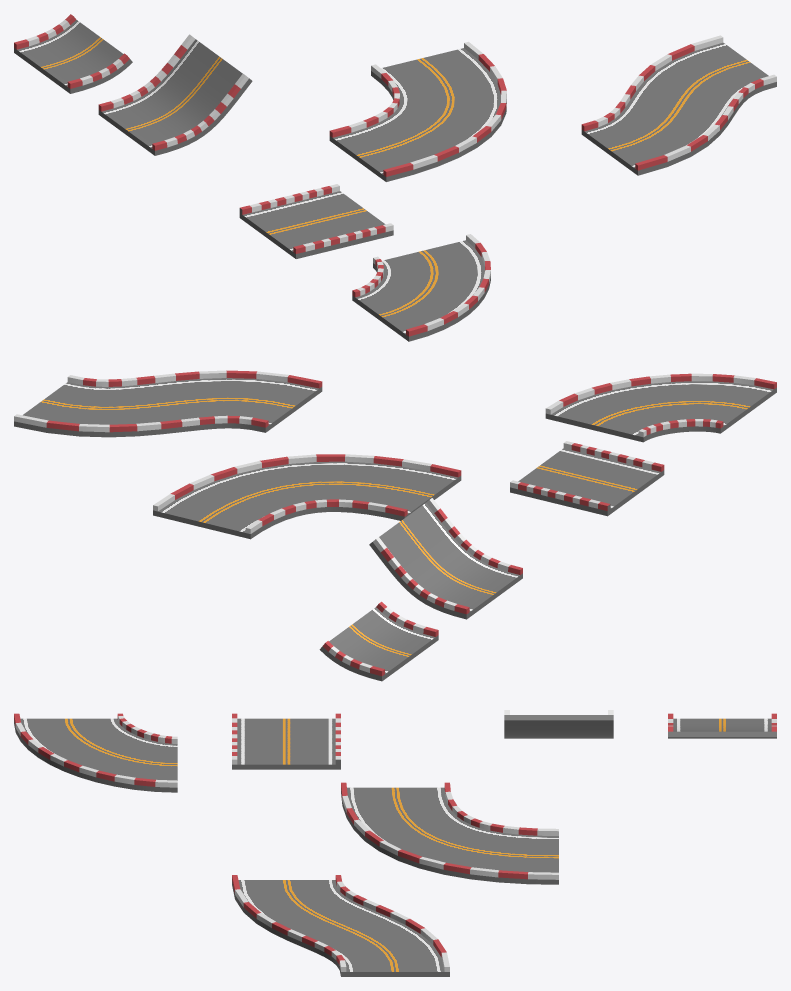
The model's file is TrackSections.fbx.
3 views of the same model, one above another, from view 1: azimuth 30°, elevation 25°; view 2: azimuth 150°, elevation 25°; view 3: azimuth 270°, elevation 25° (orthographic). The views are drawn at different scales.
Visible parts, largest first — view 1: Large Corner, S Curve, Ramp, Small Corner, Straight Away, Small Ramp; view 2: Large Corner, S Curve, Small Corner, Ramp, Straight Away, Small Ramp; view 3: Large Corner, S Curve, Small Corner, Straight Away, Ramp, Small Ramp.
Part boxes in pixels (x1,y1,x2,y2): Large Corner: (329,41,506,181); S Curve: (581,35,776,175); Ramp: (98,34,252,155); Small Corner: (352,234,490,341); Straight Away: (239,184,393,258); Small Ramp: (14,14,132,93); Large Corner: (153,454,461,539); S Curve: (14,370,322,437); Small Corner: (545,373,776,442); Ramp: (369,498,522,619); Straight Away: (510,441,664,516); Small Ramp: (319,601,438,681); Large Corner: (341,782,558,884); S Curve: (232,875,449,976); Small Corner: (14,713,177,792); Straight Away: (232,713,340,769); Ramp: (504,710,613,738); Small Ramp: (668,713,776,738).
Bounding box in the file's own units: 8800 × 913 × 11200.
